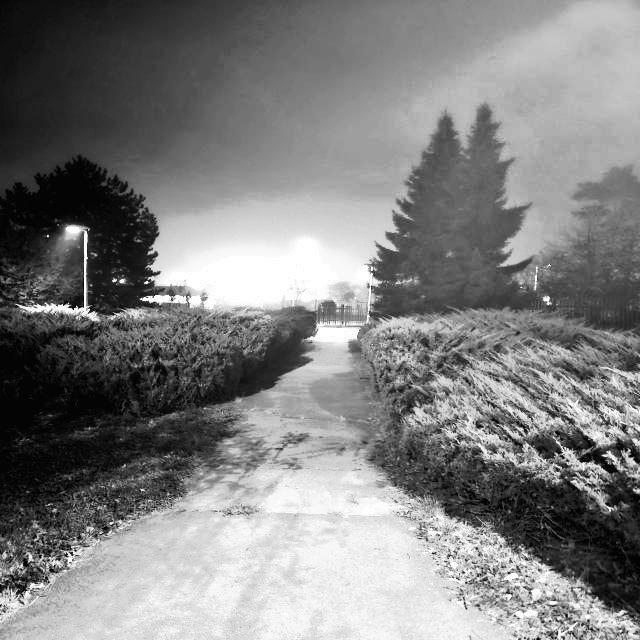Light: (66, 224, 91, 309), (290, 238, 315, 309), (357, 260, 379, 328)
